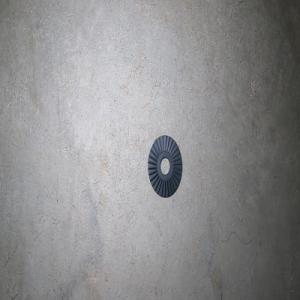Washer: (147, 135, 182, 197)
